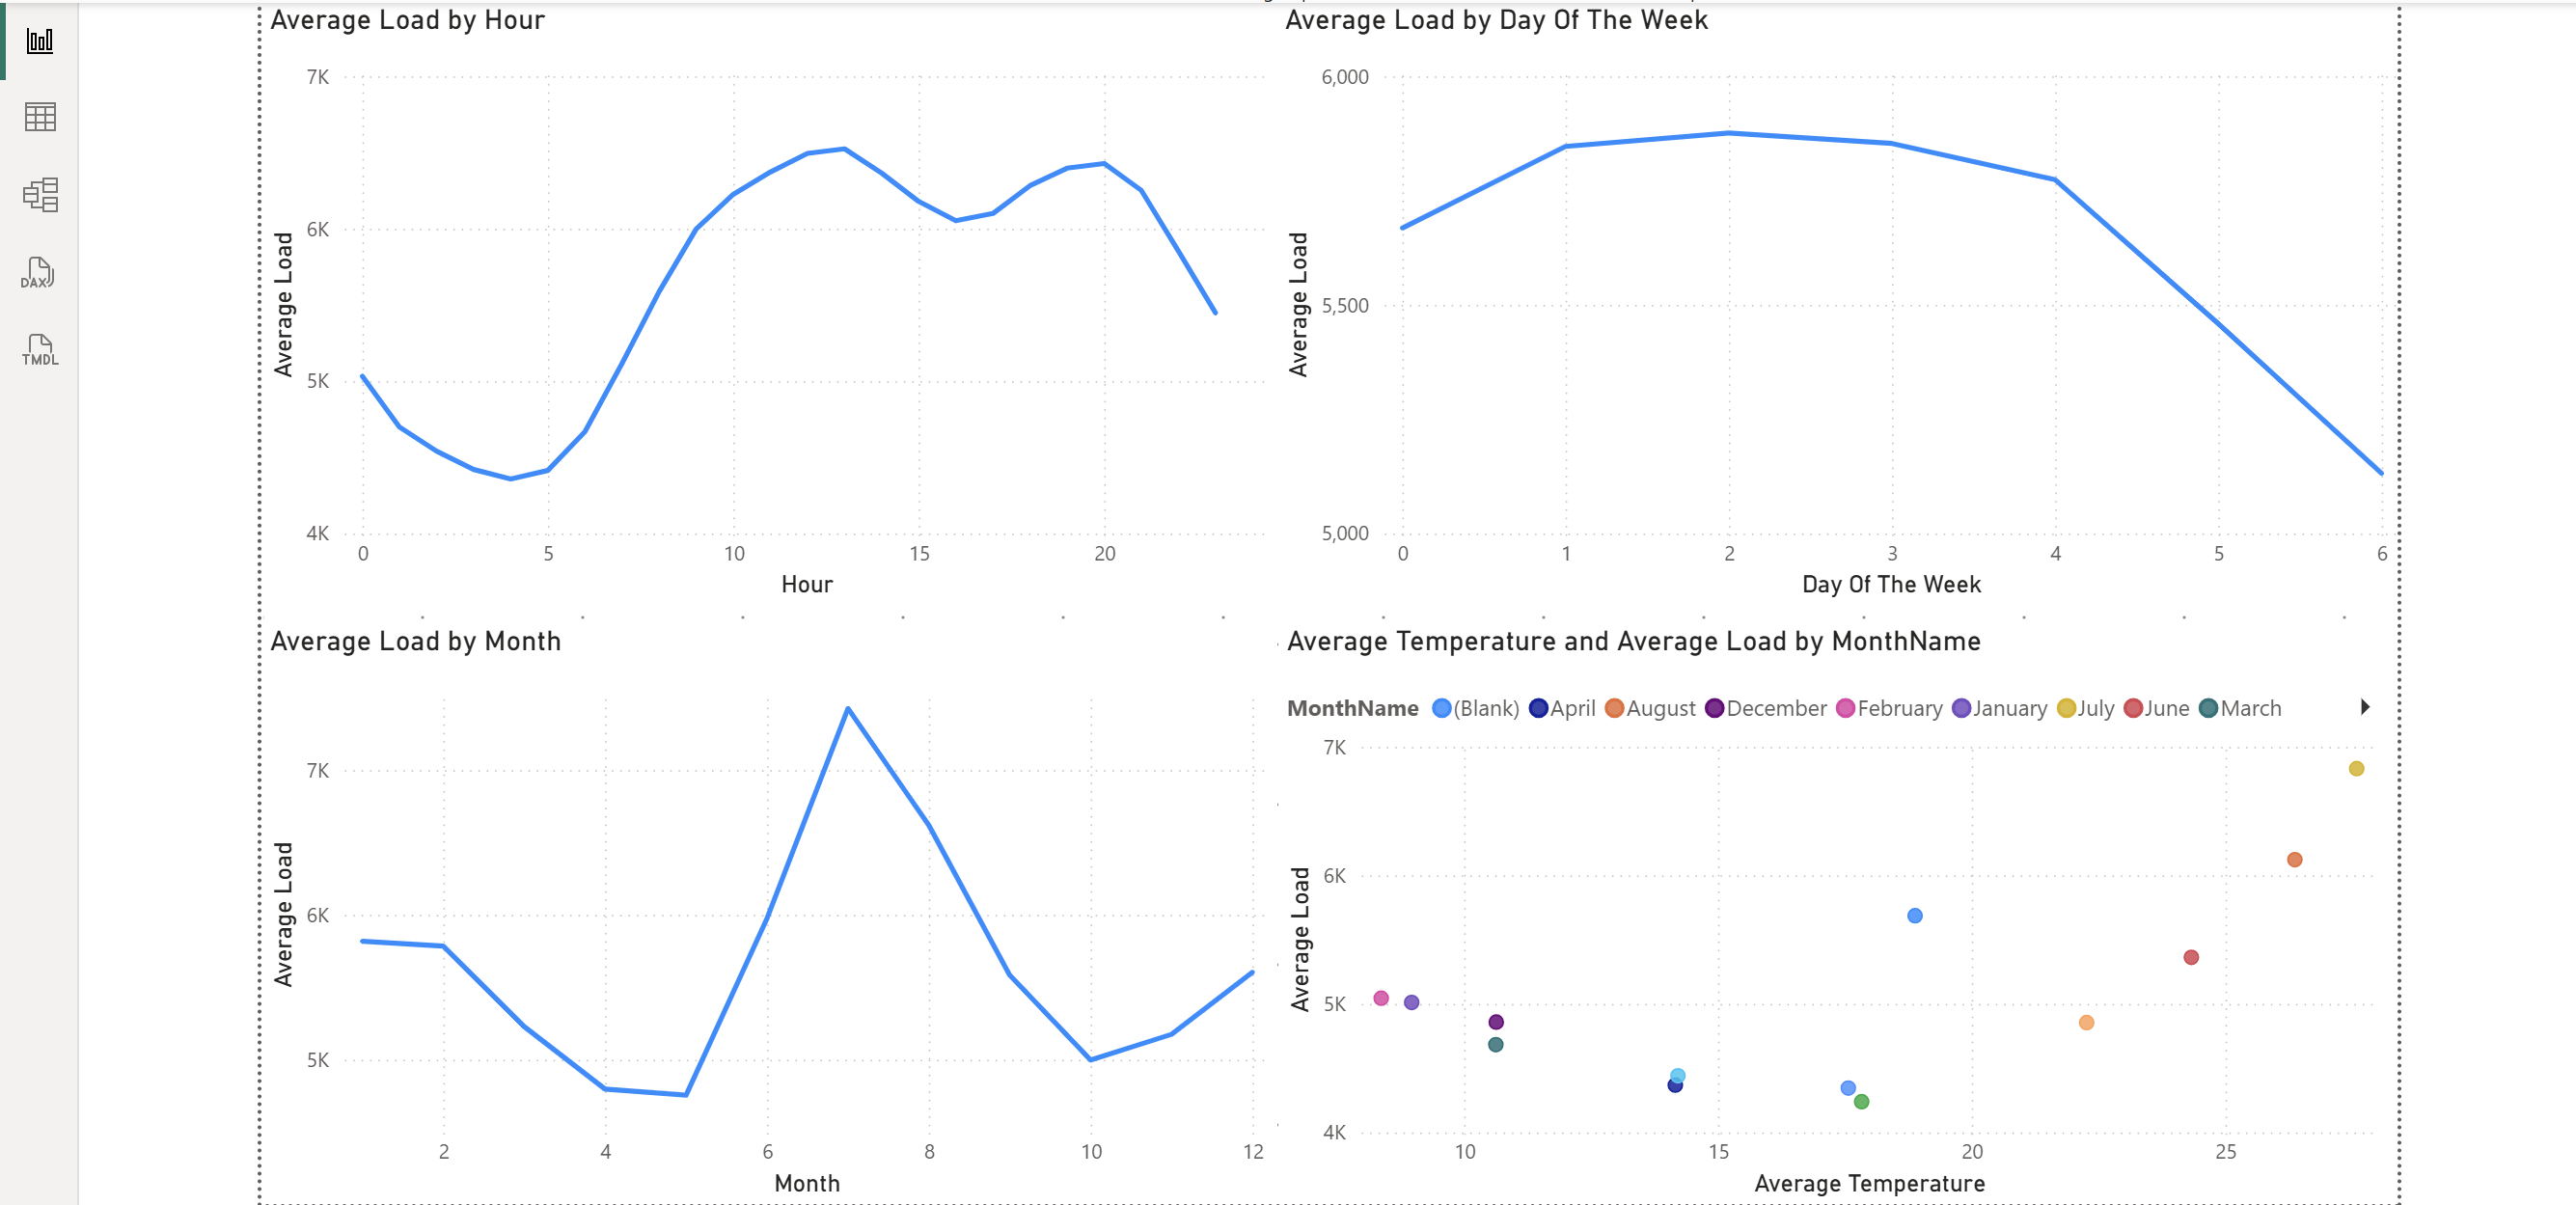

This screenshot's page, from the dashboard's own definition file:
{"tool":"powerbi","page":{"name":"Page 1","canvas":[1280,720],"ordinal":0},"visuals":[{"type":"lineChart","fields":{"Category":["electricity_data.Hour"],"Y":["electricity_data.Average Load"]},"box":[0,0,609.1,361.5],"z":0},{"type":"lineChart","fields":{"Category":["electricity_data.Day Of The Week"],"Y":["electricity_data.Average Load"]},"box":[608,0,677.5,361.5],"z":1},{"type":"lineChart","fields":{"Category":["electricity_data.Month"],"Y":["electricity_data.Average Load"]},"box":[0,372,609,348],"z":2},{"type":"scatterChart","fields":{"Series":["date_table.MonthName"],"X":["electricity_data.Average Temperature"],"Y":["electricity_data.Average Load"]},"box":[609,372,671,348],"z":3}]}

Visuals, with their boxes on the page's 1280x720 design canvas (x1, y1, x2, y2). These are canvas units, not pixel positions in the 2576x1205 screenshot, which may show the page scaled, cropped or inside an application window:
lineChart - electricity_data.Hour x electricity_data.Average Load: box(0, 0, 609, 362)
lineChart - electricity_data.Day Of The Week x electricity_data.Average Load: box(608, 0, 1286, 362)
lineChart - electricity_data.Month x electricity_data.Average Load: box(0, 372, 609, 720)
scatterChart - date_table.MonthName x electricity_data.Average Temperature: box(609, 372, 1280, 720)
